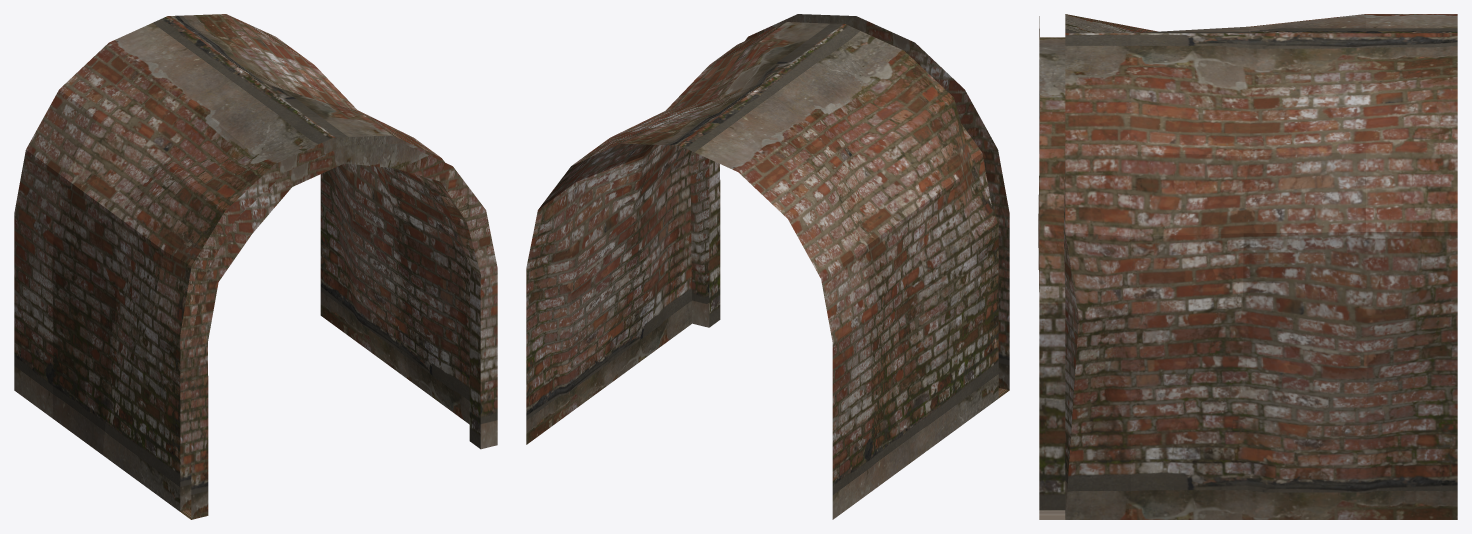
The model's file is tunnel_Wall1_Deformed_GEO.fbx.
3 views of the same model, side by side, from view 1: azimuth 30°, elevation 25°; view 2: azimuth 150°, elevation 25°; view 3: azimuth 270°, elevation 25° (orthographic). The views are drawn at different scales.
Parts seen in each view (by area): view 1: tunnel_Wall1_Deformed_GEO; view 2: tunnel_Wall1_Deformed_GEO; view 3: tunnel_Wall1_Deformed_GEO.
Boxes of the visible parts, bbox=[...] form: tunnel_Wall1_Deformed_GEO: bbox=[14, 14, 497, 519]; tunnel_Wall1_Deformed_GEO: bbox=[526, 14, 1009, 519]; tunnel_Wall1_Deformed_GEO: bbox=[1038, 14, 1457, 519].
Bounding box in the file's own units: 5 × 5.25 × 5.01.
